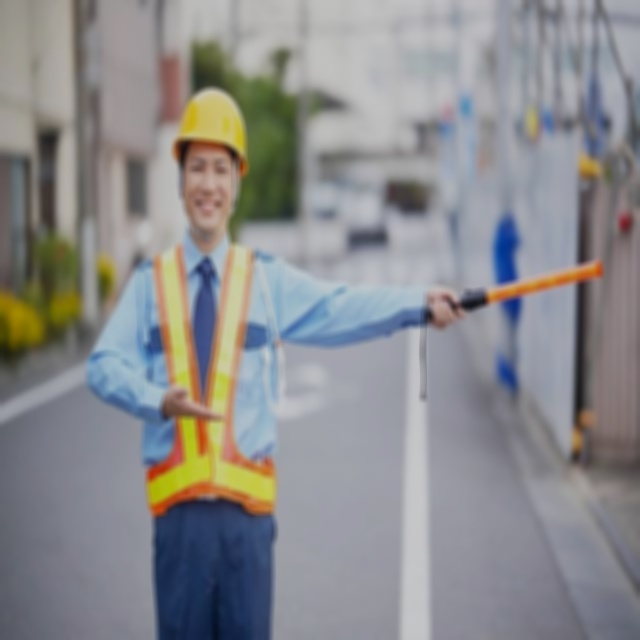Con_Casco: (170, 87, 249, 240)
Con_Chaleco: (143, 245, 273, 513)
